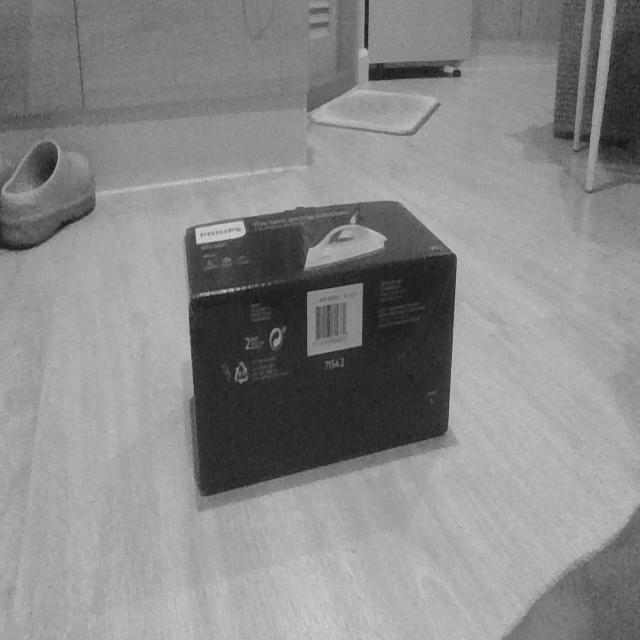IRON: (182, 197, 458, 500)
